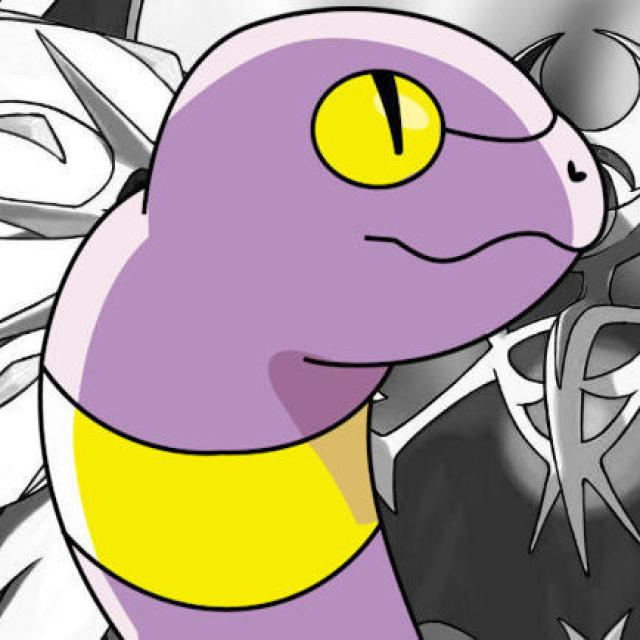Ekans: (46, 5, 598, 640)
